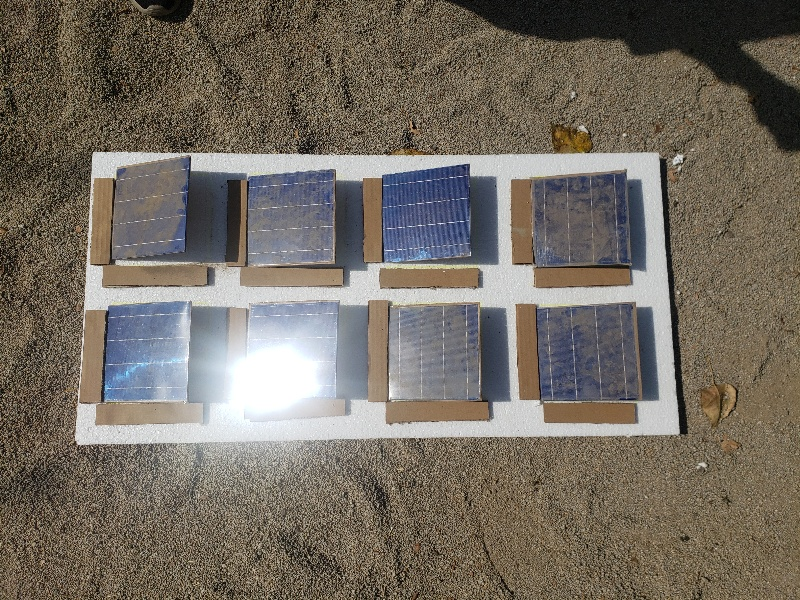clean: (376, 172, 473, 259), (106, 303, 188, 402)
dirty: (535, 297, 643, 405), (528, 169, 635, 272), (386, 303, 488, 402), (238, 168, 339, 263), (111, 152, 191, 257)
